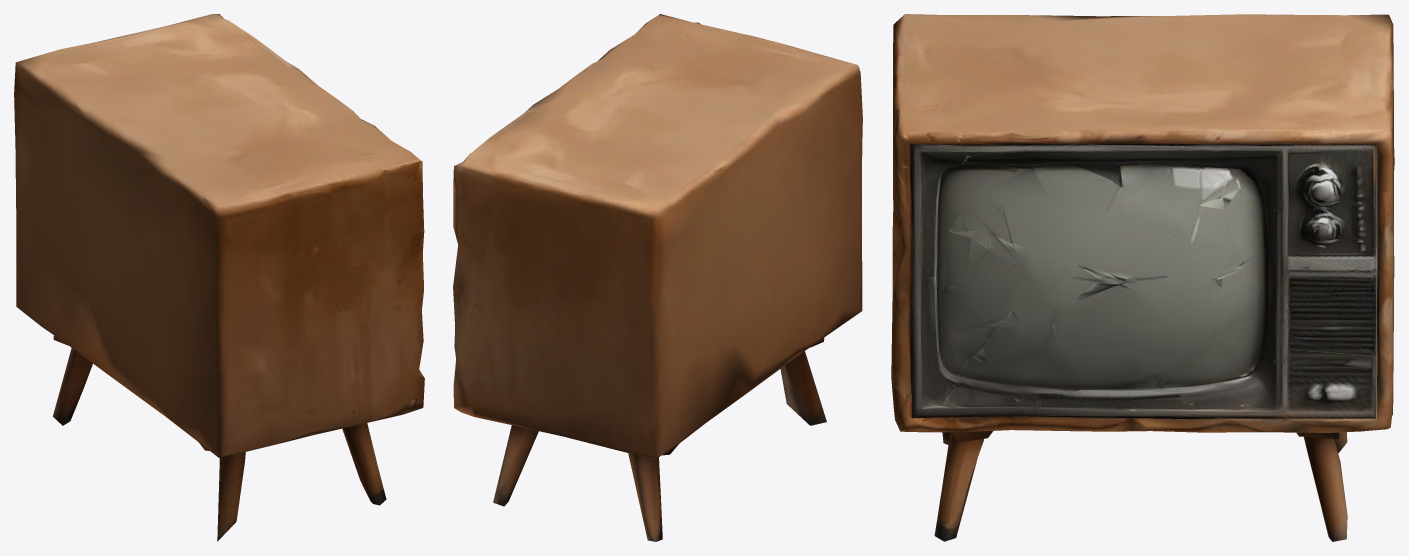
The picture shows the model from 3 angles, left to right: view 1: azimuth 30°, elevation 25°; view 2: azimuth 150°, elevation 25°; view 3: azimuth 270°, elevation 25°; orthographic projection. The views are drawn at different scales.
Parts seen in each view (by area): view 1: tripo_node_6562d0fc-430c-4b52-88b0-2d0c76aa24b3; view 2: tripo_node_6562d0fc-430c-4b52-88b0-2d0c76aa24b3; view 3: tripo_node_6562d0fc-430c-4b52-88b0-2d0c76aa24b3.
Part boxes in pixels (x1=…): tripo_node_6562d0fc-430c-4b52-88b0-2d0c76aa24b3: x1=14, y1=14, x2=424, y2=541; tripo_node_6562d0fc-430c-4b52-88b0-2d0c76aa24b3: x1=453, y1=14, x2=862, y2=541; tripo_node_6562d0fc-430c-4b52-88b0-2d0c76aa24b3: x1=891, y1=14, x2=1394, y2=541.
Size of the model in its own units: 0.6115 by 0.9335 by 1.
Materials: 1 (1 with a texture image).
